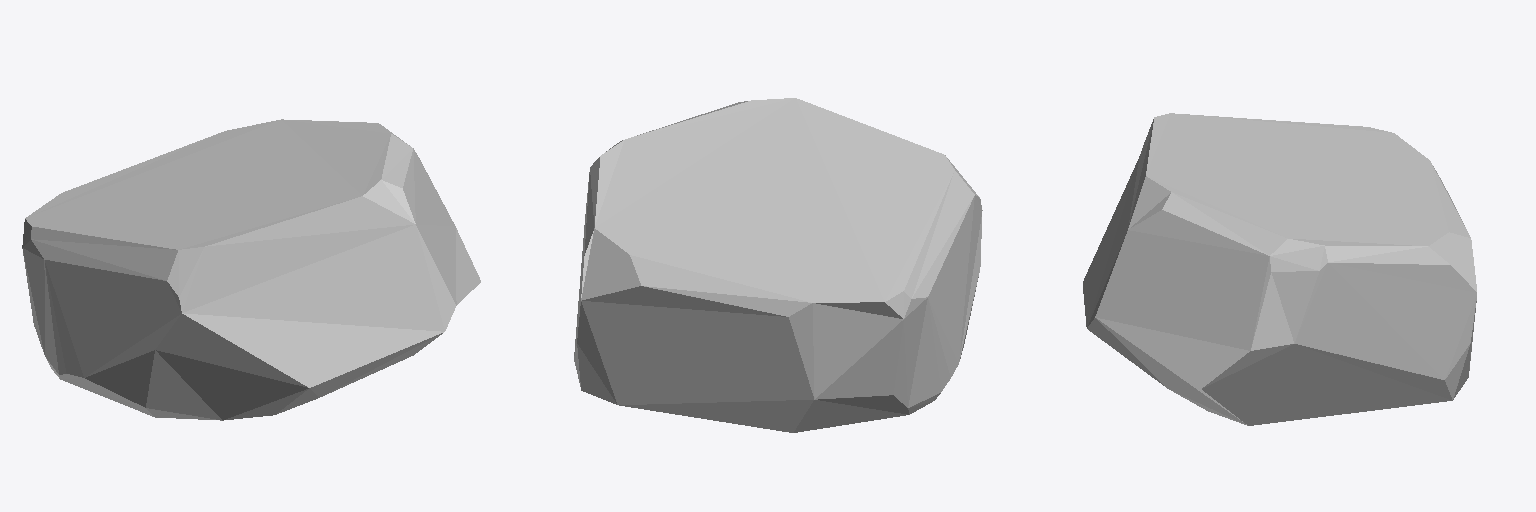
Rendered from stone.obj.
3 renders of one model, left to right at view 1: azimuth 30°, elevation 25°; view 2: azimuth 150°, elevation 25°; view 3: azimuth 270°, elevation 25°, orthographic.
Visible parts, largest first — view 1: stone2_cle; view 2: stone2_cle; view 3: stone2_cle.
Part boxes in pixels (x1,y1,x2,y2): stone2_cle: (22, 119, 480, 420); stone2_cle: (574, 98, 982, 432); stone2_cle: (1083, 113, 1476, 425).
Bounding box in the file's own units: 4.06 × 2.07 × 3.73.